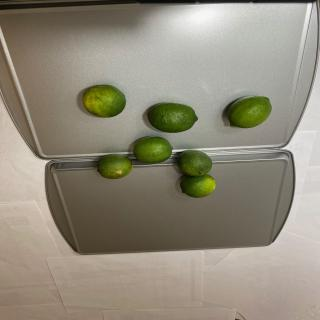Lemon: (147, 102, 198, 133), (227, 95, 272, 129), (82, 84, 126, 118), (133, 136, 173, 164), (177, 149, 212, 177), (97, 153, 133, 180), (180, 174, 216, 198)
